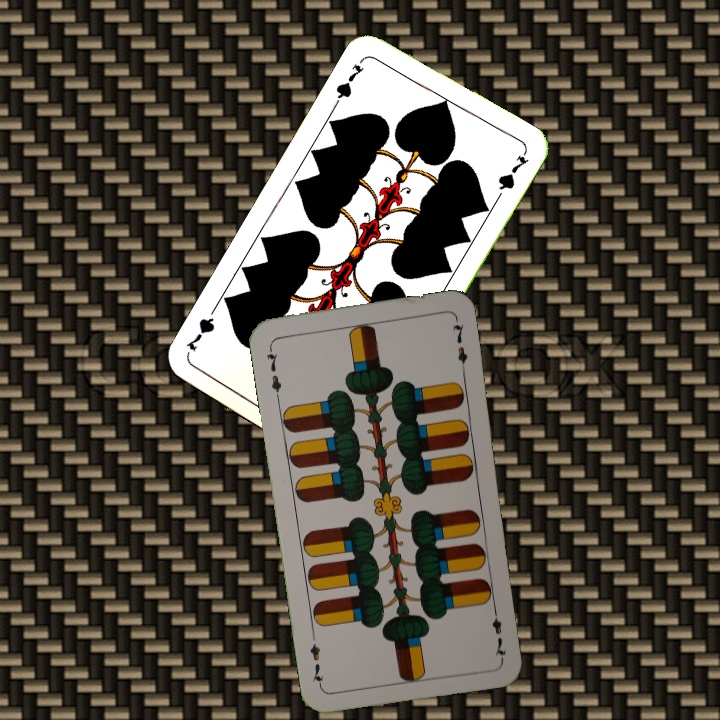E7: (262, 342, 284, 401), (488, 602, 509, 661)
G7: (331, 60, 367, 107)
